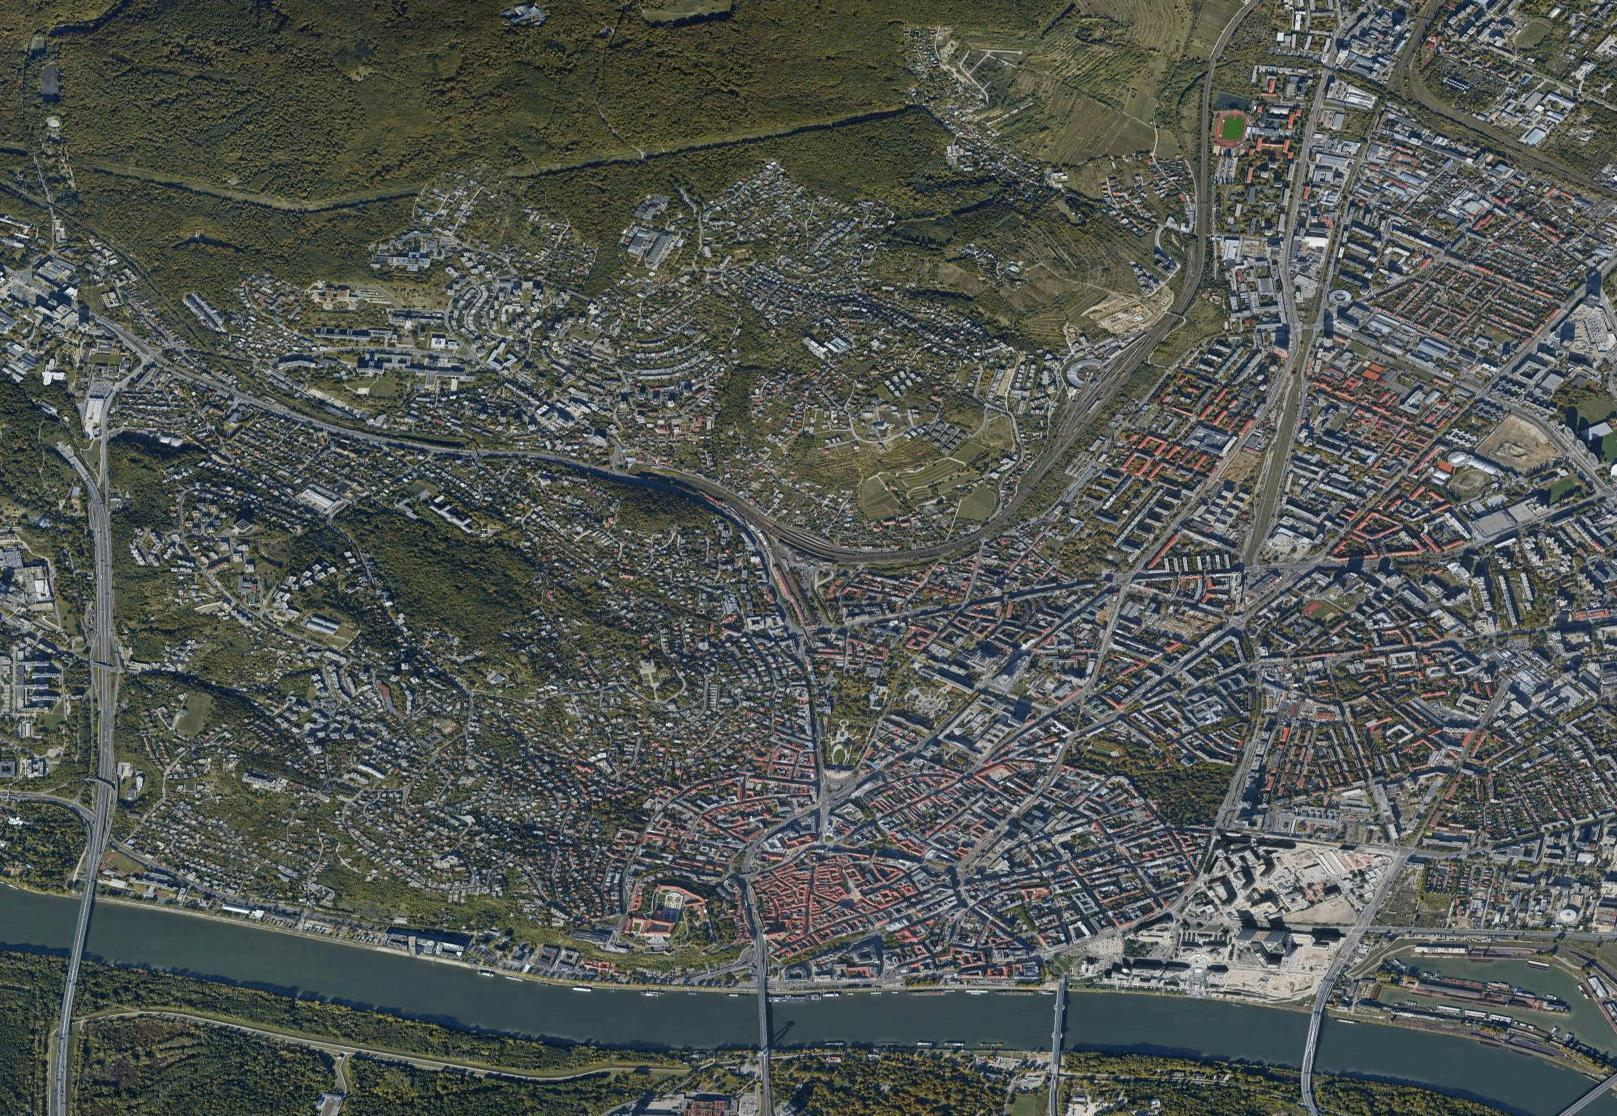bridge: (1299, 1010, 1332, 1080), (68, 895, 98, 964), (1559, 1079, 1615, 1116), (750, 988, 777, 1061), (1048, 980, 1068, 1051)
harbor: (1364, 929, 1617, 1082)
motorway: (84, 658, 125, 894), (88, 482, 116, 653), (54, 964, 82, 1116)
train_station: (1047, 352, 1132, 472), (756, 515, 847, 568)
